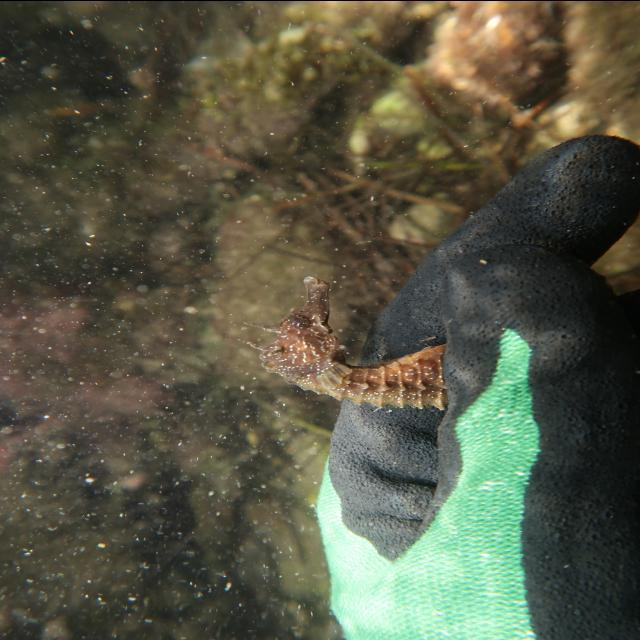Guttu: (254, 268, 344, 382)
